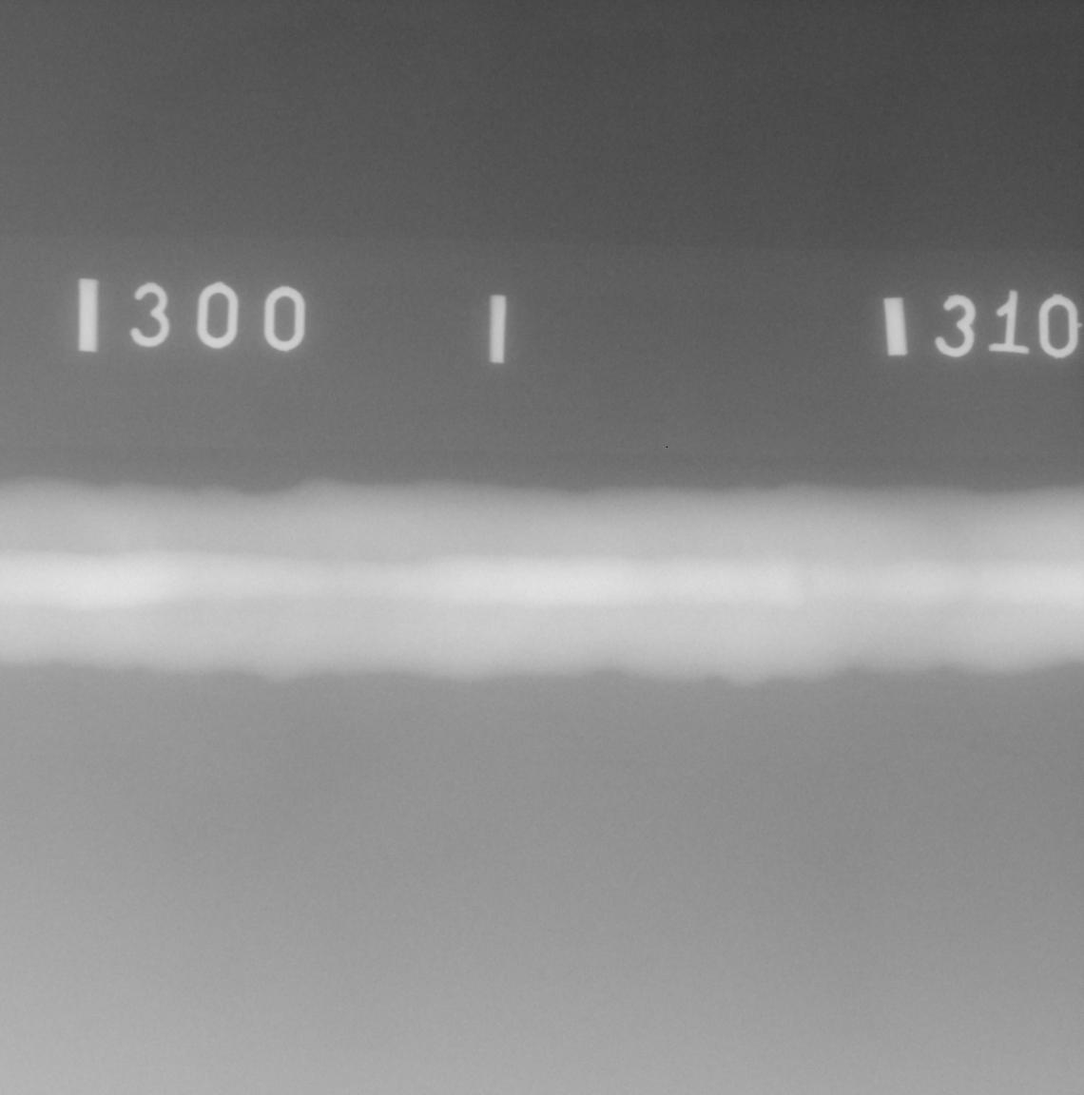Inclusion: (861, 539, 867, 544)
Pore/Porosity: (335, 494, 339, 499), (317, 493, 321, 497)
